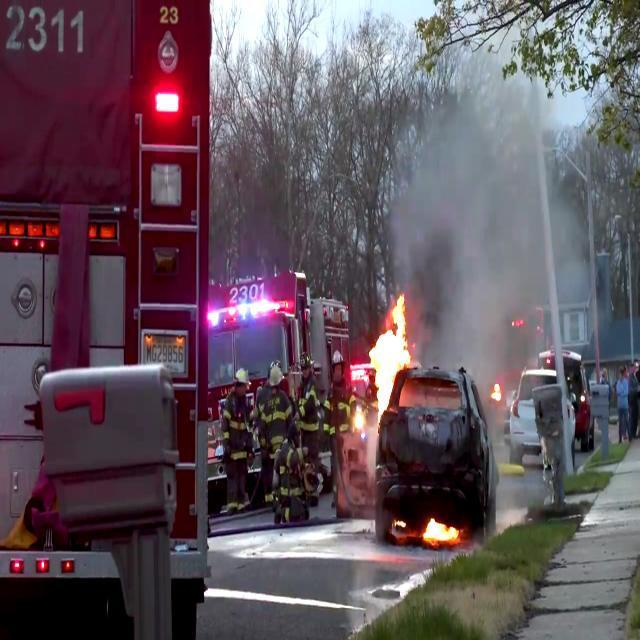Fire: (369, 293, 413, 432), (422, 512, 459, 554)
Smoke: (412, 19, 633, 388)
